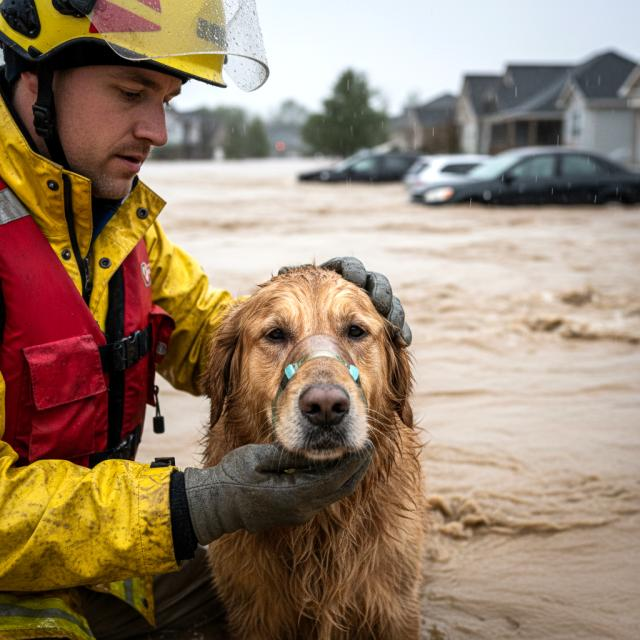dog: (195, 234, 428, 640)
rescuer: (0, 0, 417, 634)
